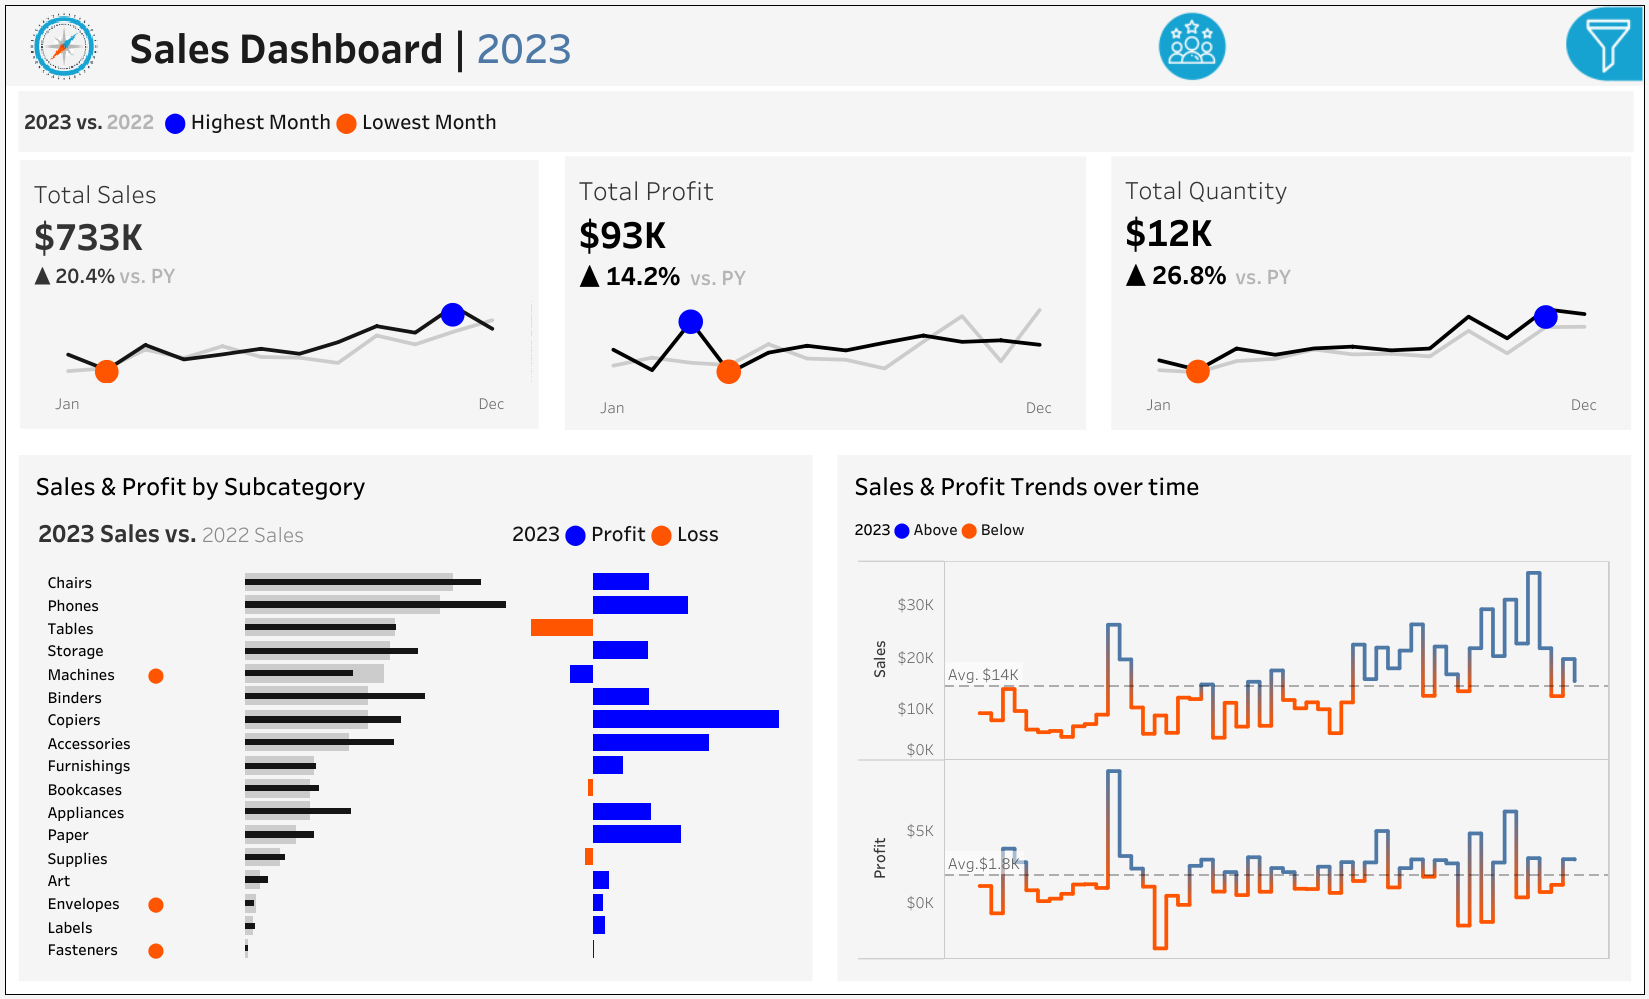

The dashboard page shown, as its layout file describes it:
{"tool":"tableau","page":{"name":"Sales Dashboard","canvas":[1320,800],"ordinal":1},"visuals":[{"type":"image","param":"Image/Icon - Logo.png","box":[5,5,92,64]},{"type":"text","box":[97,5,749,64]},{"type":"dashboard-object","box":[846,5,216,64]},{"type":"text","box":[1107,15,199,40]},{"type":"parameter","param":"[Parameters].[Parameter 1]","box":[1107,55,199,80]},{"type":"worksheet","title":"Legend KPIs","mark":"Automatic","box":[5,69,1310,56]},{"type":"worksheet","title":"KPI Sales ","mark":"Automatic","rows":["Calculation_2018175651367649284"],"cols":["Order Date"],"box":[5,125,437,229]},{"type":"worksheet","title":"KPI Profit","mark":"Line","rows":["Calculation_2018175651399692302"],"cols":["Order Date"],"box":[442,125,437,229]},{"type":"worksheet","title":"KPI Quantity","mark":"Line","rows":["Calculation_2018175651682910230"],"cols":["Order Date"],"box":[879,125,436,229]},{"type":"blank","box":[1107,135,199,32]},{"type":"text","box":[1107,167,199,33]},{"type":"filter","title":"KPI Sales ","param":"[federated.0xdnvj80rlyteu10lzpr7068ekdw].[none:Category:nk]","box":[1107,200,199,61]},{"type":"filter","title":"KPI Sales ","param":"[federated.0xdnvj80rlyteu10lzpr7068ekdw].[none:Sub-Category:nk]","box":[1107,261,199,61]},{"type":"blank","box":[1107,322,199,116]},{"type":"text","box":[22,371,621,40]},{"type":"text","box":[677,371,621,40]},{"type":"worksheet","title":"Legend Subcategory","mark":"Automatic","box":[22,411,381,40]},{"type":"text","box":[403,411,240,40]},{"type":"text","box":[677,411,621,33]},{"type":"text","box":[1107,438,199,33]},{"type":"worksheet","title":"Weekly Trends","mark":"Automatic","rows":["Calculation_2018175651349680128","Calculation_2018175651394609161"],"cols":["Order Date"],"box":[677,444,621,334]},{"type":"worksheet","title":"Subcategory Comparison","mark":"Bar","rows":["Sub-Category","Calculation_2018175651702206493"],"cols":["CY Sales (copy)_2018175651350507521","Calculation_2018175651349680128","Calculation_2018175651394609161"],"box":[22,451,621,326.9]},{"type":"filter","title":"KPI Sales ","param":"[federated.0xdnvj80rlyteu10lzpr7068ekdw].[none:Region:nk]","box":[1107,471,199,61]},{"type":"filter","title":"KPI Sales ","param":"[federated.0xdnvj80rlyteu10lzpr7068ekdw].[none:State:nk]","box":[1107,532,199,61]},{"type":"filter","title":"KPI Sales ","param":"[federated.0xdnvj80rlyteu10lzpr7068ekdw].[none:City:nk]","box":[1107,593,199,61]}]}

Visuals, with their boxes in screenshot pixels (x1, y1, x2, y2), scaled from the page's 1320x800 canvas onto the 1649x999 screenshot:
image: pyautogui.locateOnScreen(6, 6, 121, 86)
text: pyautogui.locateOnScreen(121, 6, 1057, 86)
dashboard-object: pyautogui.locateOnScreen(1057, 6, 1327, 86)
text: pyautogui.locateOnScreen(1383, 19, 1632, 69)
parameter: pyautogui.locateOnScreen(1383, 69, 1632, 169)
"Legend KPIs" worksheet: pyautogui.locateOnScreen(6, 86, 1643, 156)
"KPI Sales " worksheet: pyautogui.locateOnScreen(6, 156, 552, 442)
"KPI Profit" worksheet (Line marks): pyautogui.locateOnScreen(552, 156, 1098, 442)
"KPI Quantity" worksheet (Line marks): pyautogui.locateOnScreen(1098, 156, 1643, 442)
blank: pyautogui.locateOnScreen(1383, 169, 1632, 209)
text: pyautogui.locateOnScreen(1383, 209, 1632, 250)
"KPI Sales " filter: pyautogui.locateOnScreen(1383, 250, 1632, 326)
"KPI Sales " filter: pyautogui.locateOnScreen(1383, 326, 1632, 402)
blank: pyautogui.locateOnScreen(1383, 402, 1632, 547)
text: pyautogui.locateOnScreen(27, 463, 803, 513)
text: pyautogui.locateOnScreen(846, 463, 1622, 513)
"Legend Subcategory" worksheet: pyautogui.locateOnScreen(27, 513, 503, 563)
text: pyautogui.locateOnScreen(503, 513, 803, 563)
text: pyautogui.locateOnScreen(846, 513, 1622, 554)
text: pyautogui.locateOnScreen(1383, 547, 1632, 588)
"Weekly Trends" worksheet: pyautogui.locateOnScreen(846, 554, 1622, 972)
"Subcategory Comparison" worksheet (Bar marks): pyautogui.locateOnScreen(27, 563, 803, 971)
"KPI Sales " filter: pyautogui.locateOnScreen(1383, 588, 1632, 664)
"KPI Sales " filter: pyautogui.locateOnScreen(1383, 664, 1632, 741)
"KPI Sales " filter: pyautogui.locateOnScreen(1383, 741, 1632, 817)
